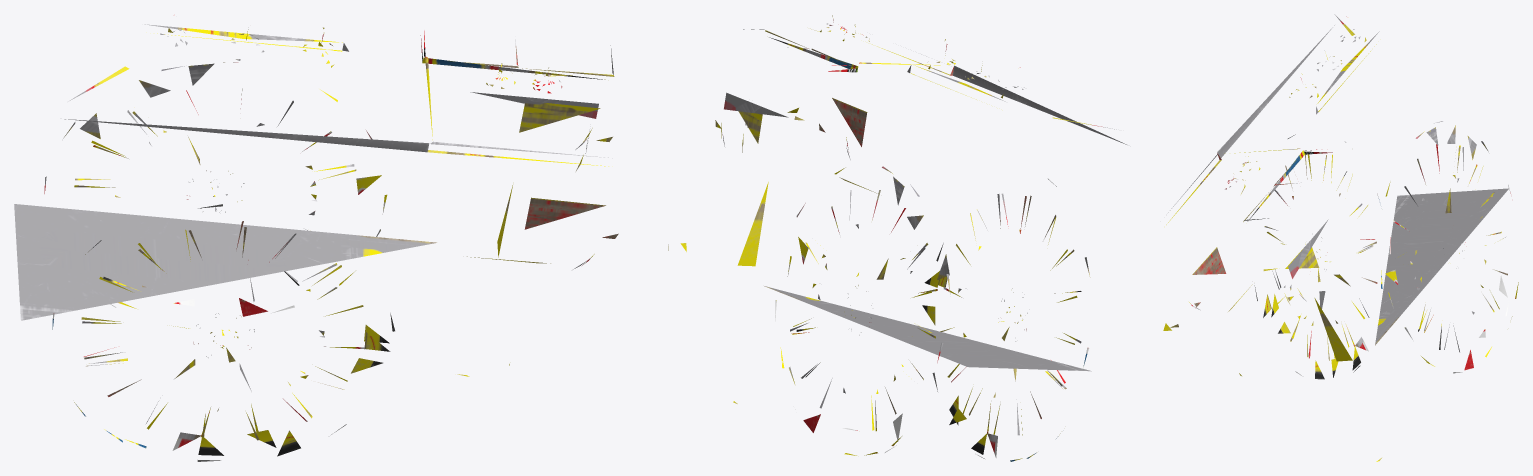
Rendered from Sorbetes_Cart.fbx.
3 views of the same model, side by side, from view 1: azimuth 30°, elevation 25°; view 2: azimuth 150°, elevation 25°; view 3: azimuth 270°, elevation 25° (orthographic). The views are drawn at different scales.
Visible parts, largest first — view 1: bottom_low_cart_mat_0, top1_low_cart_mat_0, tire1_low_cart_mat_0, wheel1_low_cart_mat_0, tire2_low_cart_mat_0, top2_low_cart_mat_0, Handle1_low_cart_mat_0, Handle2_low_cart_mat_0, topcover1_low_cart_mat_0, wheel2_low_cart_mat_0, mainBody_low_cart_mat_0; view 2: bottom_low_cart_mat_0, tire2_low_cart_mat_0, wheel1_low_cart_mat_0, top1_low_cart_mat_0, tire1_low_cart_mat_0, wheel2_low_cart_mat_0, post2_low_cart_mat_0, Handle1_low_cart_mat_0, mainBody_low_cart_mat_0, top2_low_cart_mat_0, Handle2_low_cart_mat_0; view 3: bottom_low_cart_mat_0, wheel1_low_cart_mat_0, tire2_low_cart_mat_0, top1_low_cart_mat_0, wheel2_low_cart_mat_0, tire1_low_cart_mat_0, Handle1_low_cart_mat_0, post2_low_cart_mat_0, top2_low_cart_mat_0, topcover1_low_cart_mat_0, mainBody_low_cart_mat_0.
Boxes of the visible parts, bbox=[...] form: bottom_low_cart_mat_0: bbox=[14, 204, 509, 365]; top1_low_cart_mat_0: bbox=[64, 66, 429, 152]; tire1_low_cart_mat_0: bbox=[52, 204, 394, 461]; wheel1_low_cart_mat_0: bbox=[81, 221, 365, 443]; tire2_low_cart_mat_0: bbox=[44, 62, 387, 328]; top2_low_cart_mat_0: bbox=[422, 56, 612, 166]; Handle1_low_cart_mat_0: bbox=[524, 197, 686, 251]; Handle2_low_cart_mat_0: bbox=[519, 100, 612, 141]; topcover1_low_cart_mat_0: bbox=[144, 24, 348, 67]; wheel2_low_cart_mat_0: bbox=[74, 88, 356, 301]; mainBody_low_cart_mat_0: bbox=[470, 92, 598, 269]; bottom_low_cart_mat_0: bbox=[764, 273, 1091, 371]; tire2_low_cart_mat_0: bbox=[775, 166, 950, 455]; wheel1_low_cart_mat_0: bbox=[940, 193, 1081, 435]; top1_low_cart_mat_0: bbox=[950, 65, 1126, 144]; tire1_low_cart_mat_0: bbox=[922, 179, 1090, 461]; wheel2_low_cart_mat_0: bbox=[790, 190, 937, 431]; post2_low_cart_mat_0: bbox=[737, 182, 768, 266]; Handle1_low_cart_mat_0: bbox=[787, 98, 867, 146]; mainBody_low_cart_mat_0: bbox=[721, 92, 850, 159]; top2_low_cart_mat_0: bbox=[769, 37, 949, 75]; Handle2_low_cart_mat_0: bbox=[715, 111, 762, 143]; bottom_low_cart_mat_0: bbox=[1239, 188, 1508, 375]; wheel1_low_cart_mat_0: bbox=[1263, 154, 1377, 360]; tire2_low_cart_mat_0: bbox=[1385, 121, 1518, 373]; top1_low_cart_mat_0: bbox=[1217, 14, 1354, 159]; wheel2_low_cart_mat_0: bbox=[1393, 144, 1507, 352]; tire1_low_cart_mat_0: bbox=[1254, 134, 1382, 379]; Handle1_low_cart_mat_0: bbox=[1163, 247, 1226, 330]; post2_low_cart_mat_0: bbox=[1314, 298, 1352, 361]; top2_low_cart_mat_0: bbox=[1166, 148, 1304, 224]; topcover1_low_cart_mat_0: bbox=[1289, 16, 1379, 114]; mainBody_low_cart_mat_0: bbox=[1189, 219, 1328, 310].
Bounding box in the file's own units: 140 × 118 × 114.
Materials: 1 (1 with a texture image).
